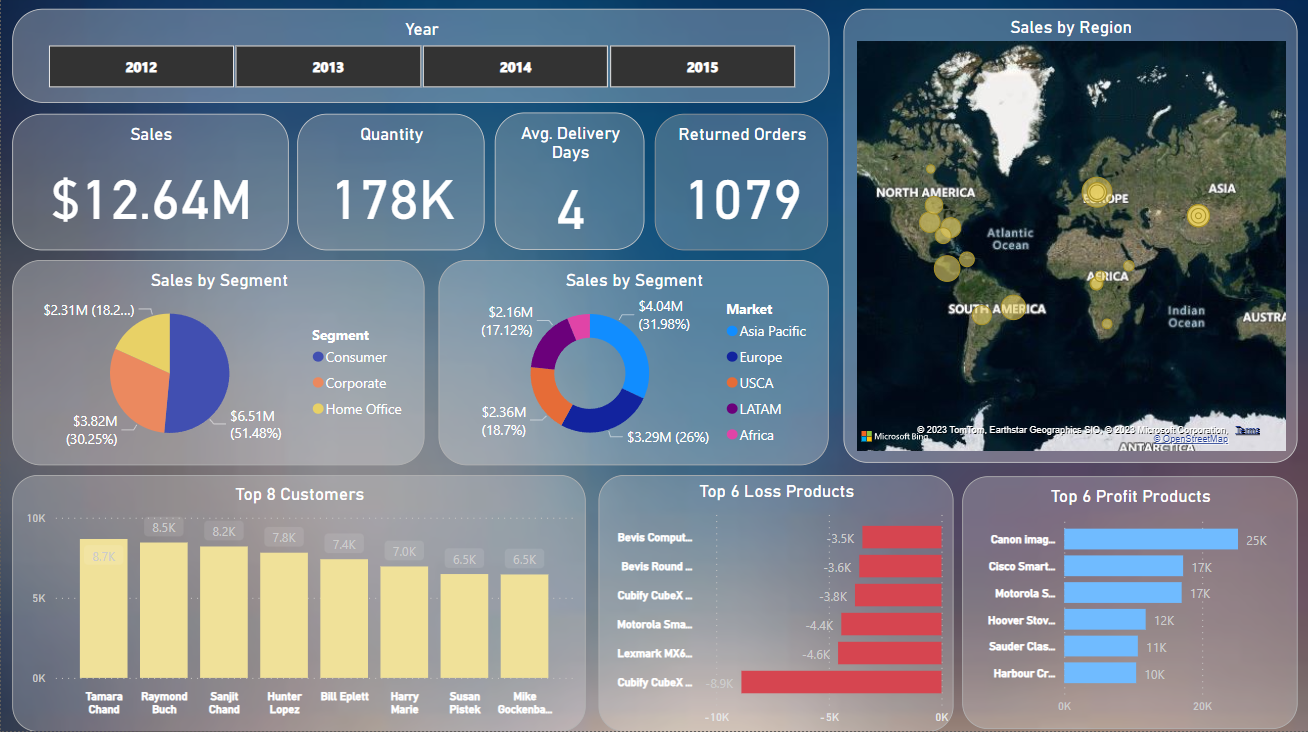

This screenshot's page, from the dashboard's own definition file:
{"tool":"powerbi","page":{"name":"Page 1","canvas":[1280,720],"ordinal":0},"visuals":[{"type":"card","title":"Sales","fields":{"Values":["Orders.Sales"]},"box":[11,116.1,270.2,133.2],"z":0},{"type":"card","title":"Quantity","fields":{"Values":["Orders.Quantity"]},"box":[289.7,116.1,183.4,133.2],"z":1000},{"type":"card","title":"Avg. Delivery Days","fields":{"Values":["Orders.Delivery Days"]},"box":[482.9,114.9,146.7,134.5],"z":2000},{"type":"slicer","title":"Year","fields":{"Values":["Orders.Year"]},"box":[11,13.4,799.5,91.7],"z":3000},{"type":"card","title":"Returned Orders","fields":{"Values":["Returns.Return Orders"]},"box":[639.3,116.1,169.9,133.2],"z":4000},{"type":"map","title":" Sales by Region","fields":{"Category":["Orders.Region"],"Size":["Orders.Sales"]},"box":[823.9,13.4,443.7,443.7],"z":5000},{"type":"clusteredBarChart","title":"Top 6 Profit Products","fields":{"Category":["Orders.Product Name"],"Y":["Orders.Profit"]},"box":[940.5,470.9,327.9,246.9],"z":6000},{"type":"clusteredBarChart","title":"Top 6 Loss Products","fields":{"Category":["Orders.Product Name"],"Y":["Orders.Profit"]},"box":[584.1,468.9,346.9,250.9],"z":7000},{"type":"pieChart","title":"Sales by Segment","fields":{"Y":["Orders.Sales"],"Category":["Orders.Segment"]},"box":[11,259.2,403.4,200.5],"z":7001},{"type":"donutChart","title":"Sales by Segment","fields":{"Y":["Orders.Sales"],"Category":["Orders.Market"]},"box":[427.8,259.2,381.4,200.5],"z":7002},{"type":"columnChart","title":"Top 8 Customers","fields":{"Category":["Orders.Customer Name"],"Y":["Orders.Profit"]},"box":[11,468.9,560.8,250.9],"z":7003}]}

Visuals, with their boxes in screenshot pixels (x1, y1, x2, y2), scaled from the page's 1280x720 canvas onto the 1308x732 screenshot:
"Sales" card: l=11, t=118, r=287, b=253
"Quantity" card: l=296, t=118, r=483, b=253
"Avg. Delivery Days" card: l=493, t=117, r=643, b=254
"Year" slicer: l=11, t=14, r=828, b=107
"Returned Orders" card: l=653, t=118, r=827, b=253
" Sales by Region" map: l=842, t=14, r=1295, b=465
"Top 6 Profit Products" clusteredBarChart: l=961, t=479, r=1296, b=730
"Top 6 Loss Products" clusteredBarChart: l=597, t=477, r=951, b=731
"Sales by Segment" pieChart: l=11, t=264, r=423, b=467
"Sales by Segment" donutChart: l=437, t=264, r=827, b=467
"Top 8 Customers" columnChart: l=11, t=477, r=584, b=731
